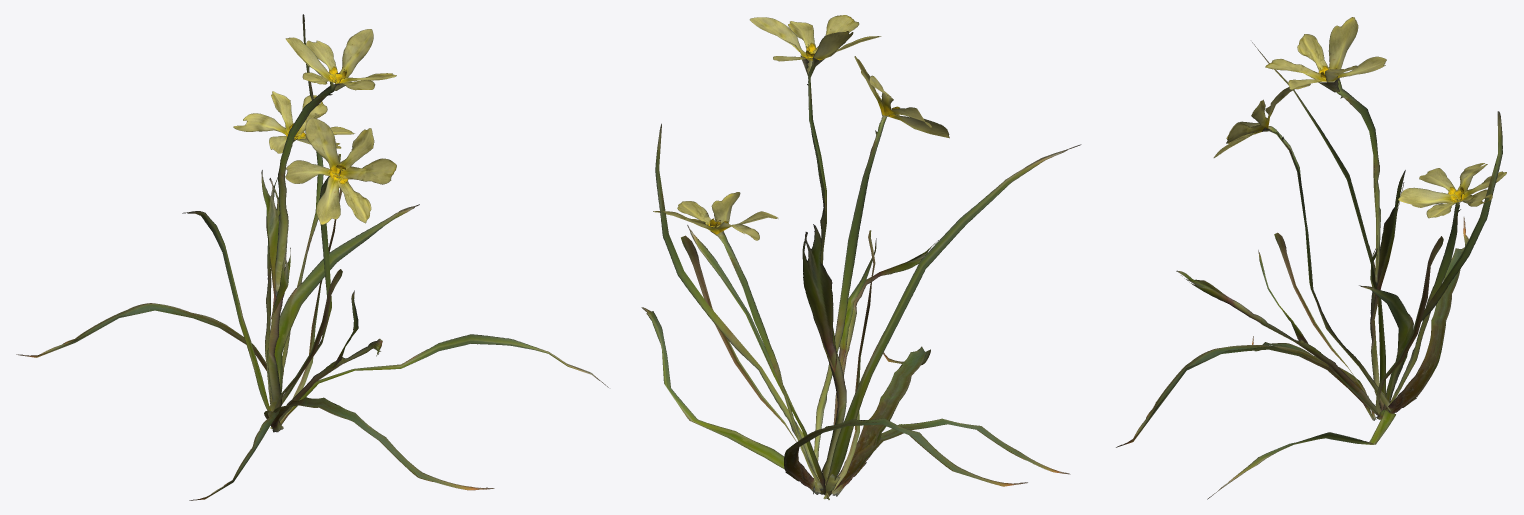
File: flower_empodium_03.glb
The picture shows the model from 3 angles, left to right: view 1: azimuth 30°, elevation 25°; view 2: azimuth 150°, elevation 25°; view 3: azimuth 270°, elevation 25°; orthographic projection. The views are drawn at different scales.
Parts seen in each view (by area): view 1: flower_empodium; view 2: flower_empodium; view 3: flower_empodium.
Boxes of the visible parts, bbox=[...] form: flower_empodium: bbox=[16, 14, 608, 500]; flower_empodium: bbox=[641, 15, 1081, 499]; flower_empodium: bbox=[1116, 17, 1506, 499].
Size of the model in its own units: 0.2169 by 0.1786 by 0.1579.
Materials: 1 (1 with a texture image).
